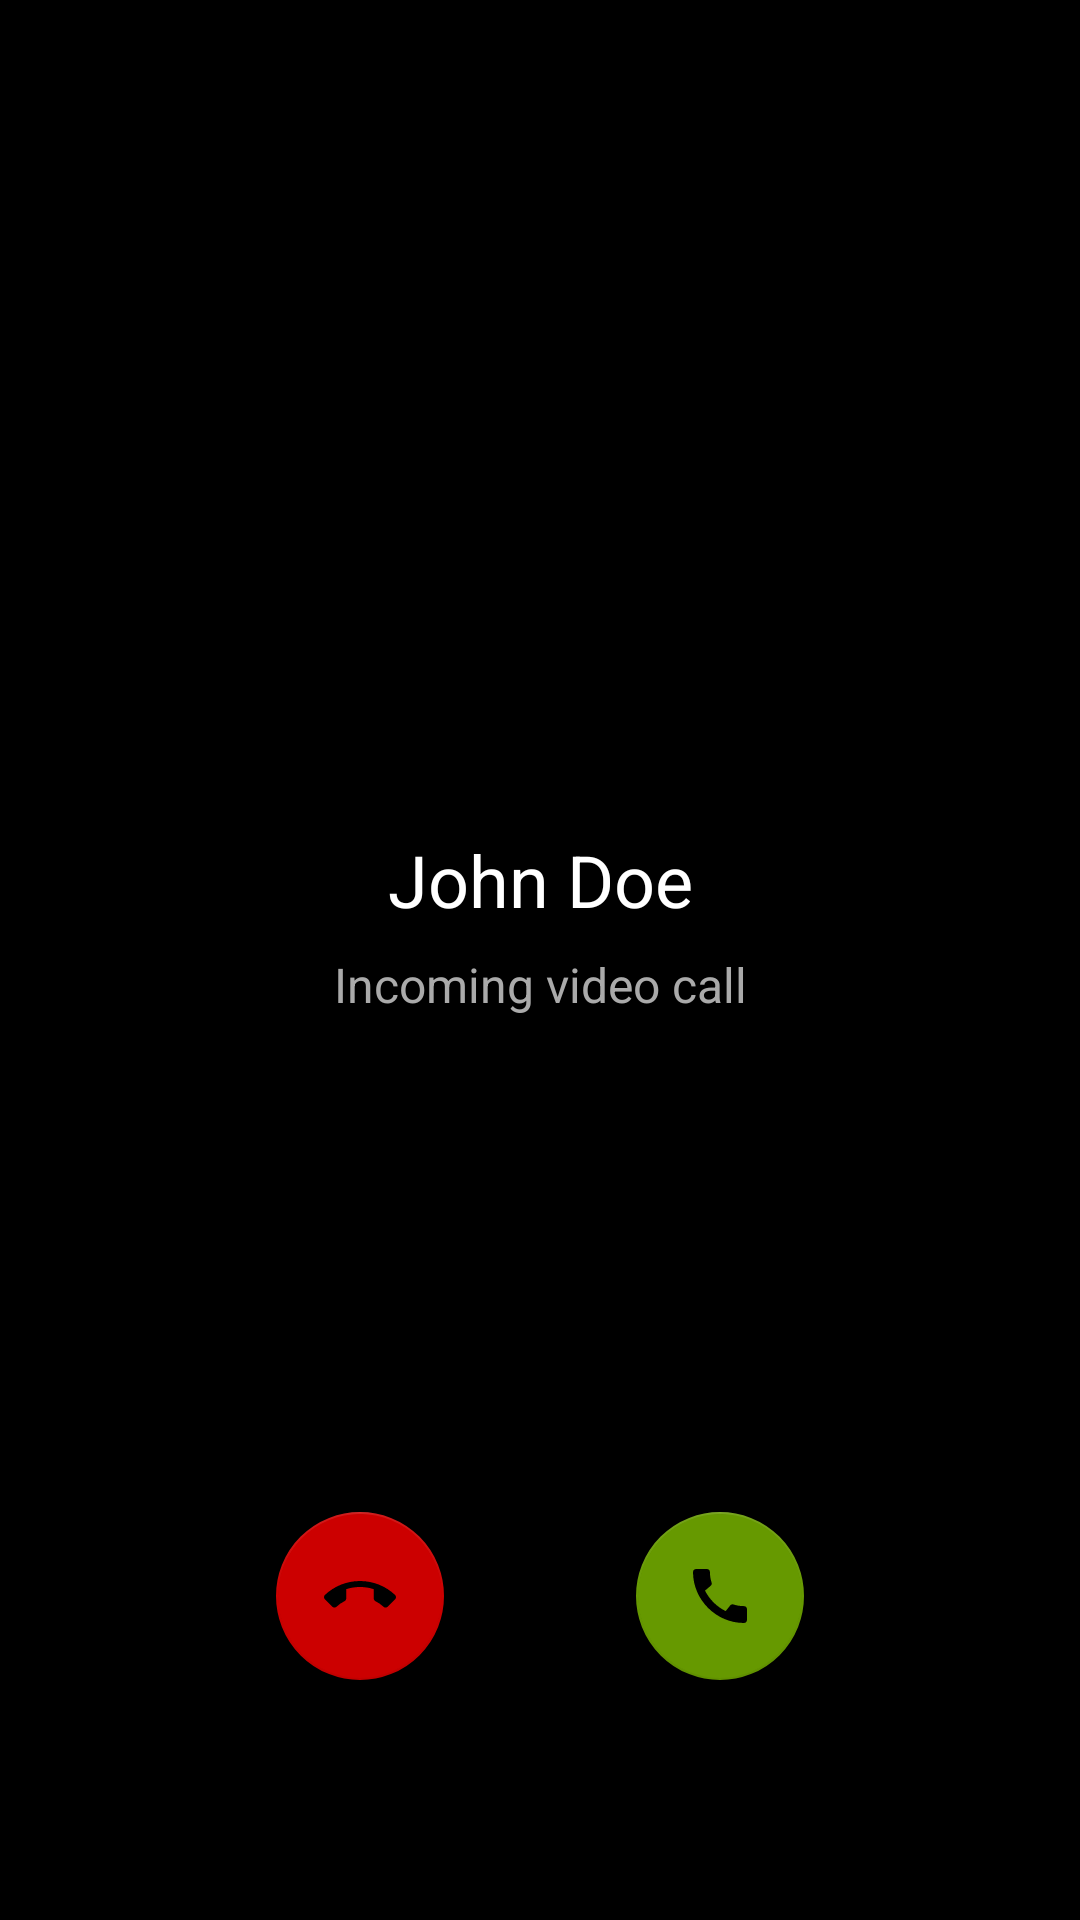

Icons on this 1080*1920 Android screen, each with its box as (x1, y1, x2, y2):
call: (636, 1512, 804, 1680)
call end: (276, 1512, 444, 1680)
